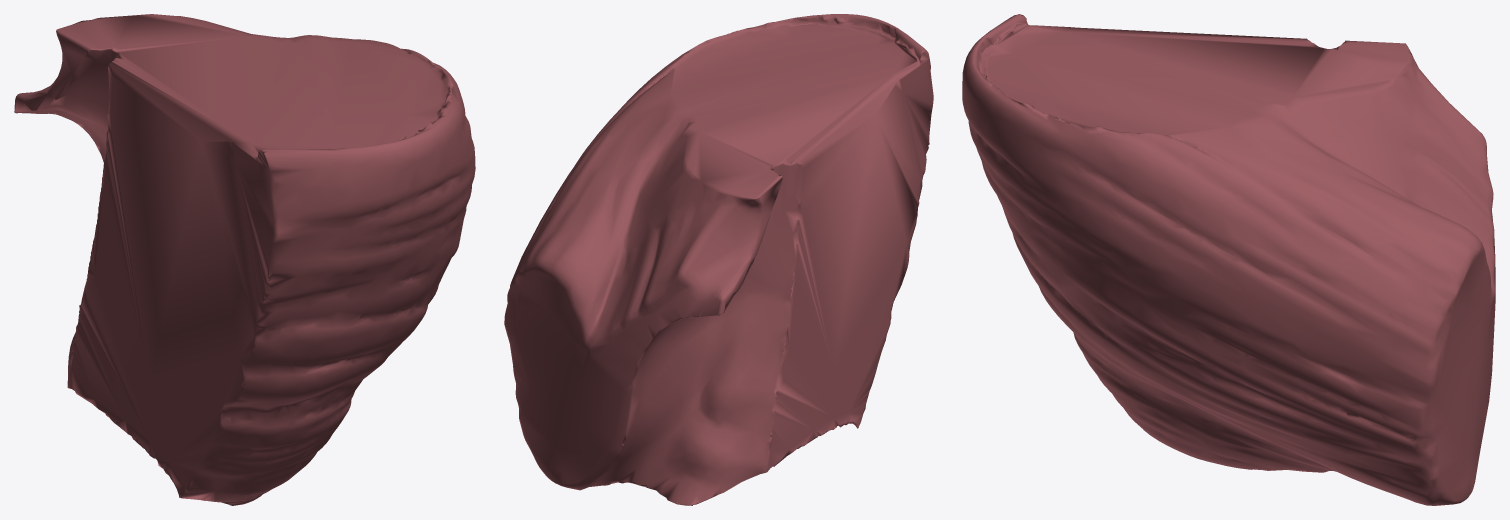
The model's file is Pons.L.001.fbx.
3 views of the same model, side by side, from view 1: azimuth 30°, elevation 25°; view 2: azimuth 150°, elevation 25°; view 3: azimuth 270°, elevation 25° (orthographic). The views are drawn at different scales.
Visible parts, largest first — view 1: Pons.l.001; view 2: Pons.l.001; view 3: Pons.l.001.
Boxes of the visible parts, x1=… form: Pons.l.001: x1=14, y1=14, x2=475, y2=505; Pons.l.001: x1=504, y1=14, x2=933, y2=505; Pons.l.001: x1=962, y1=14, x2=1495, y2=505.
Size of the model in its own units: 2.06 by 3.34 by 2.78.
